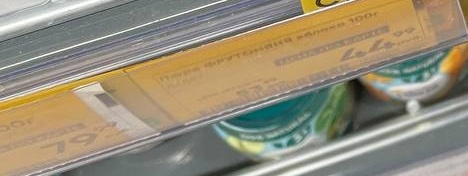1d: (196, 62, 352, 121)
